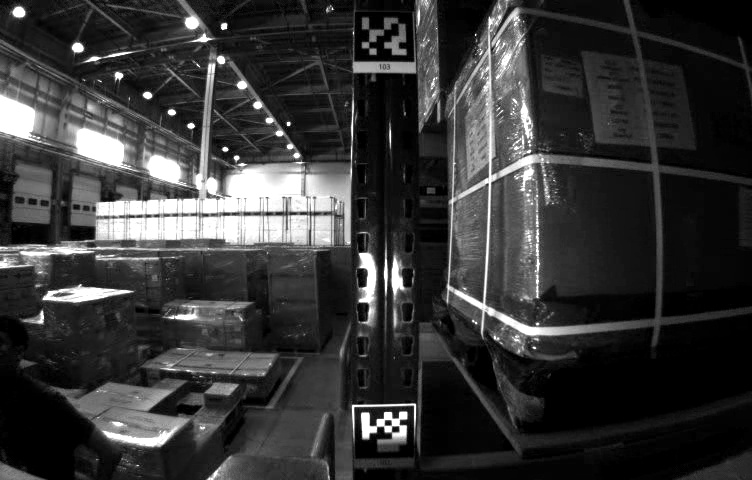True Barcode: (543, 56, 584, 94)
